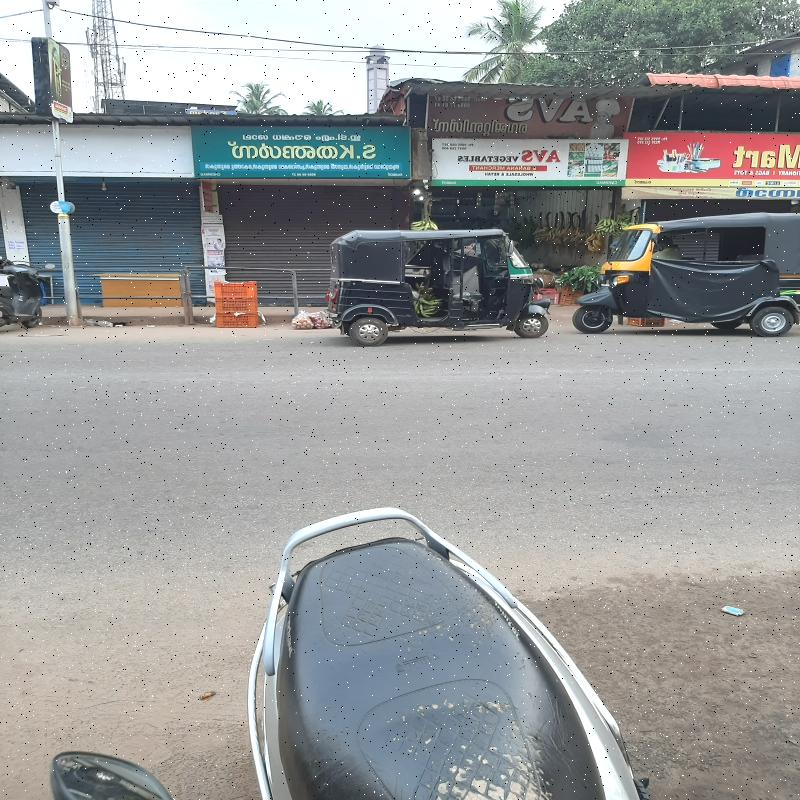auto: (563, 214, 798, 335), (330, 223, 536, 351)
